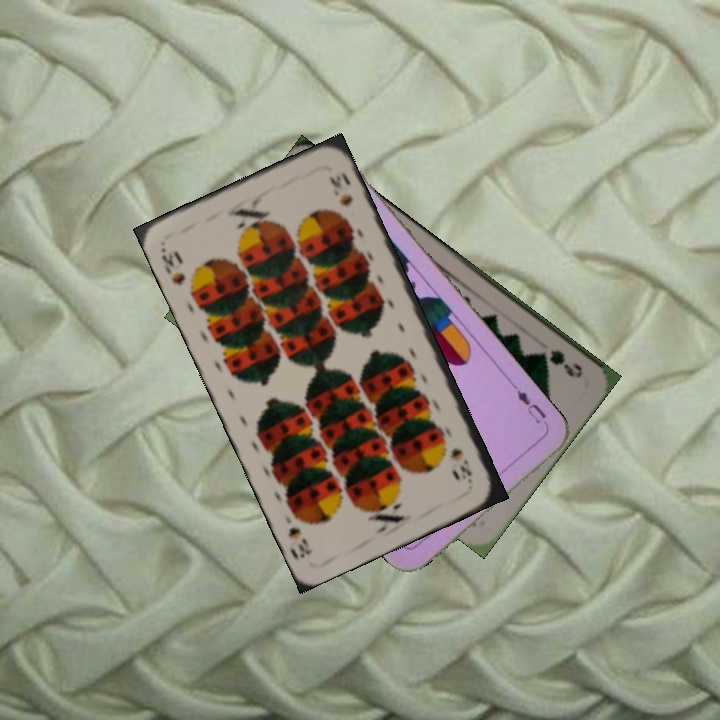EU: (509, 382, 552, 432)
G9: (534, 345, 586, 381)
S10: (156, 243, 188, 288), (448, 444, 475, 486)
